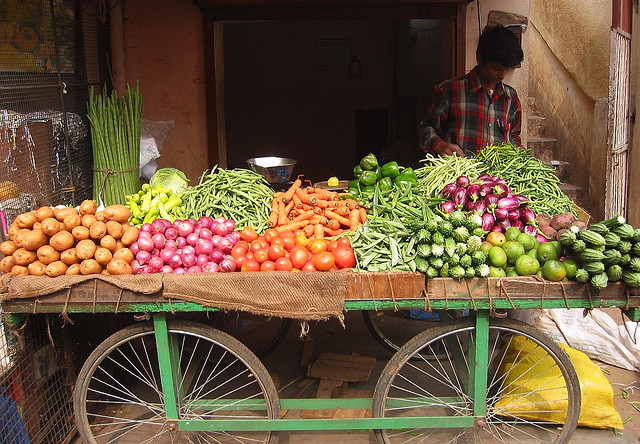cart: (6, 170, 640, 444)
person: (432, 25, 526, 163)
